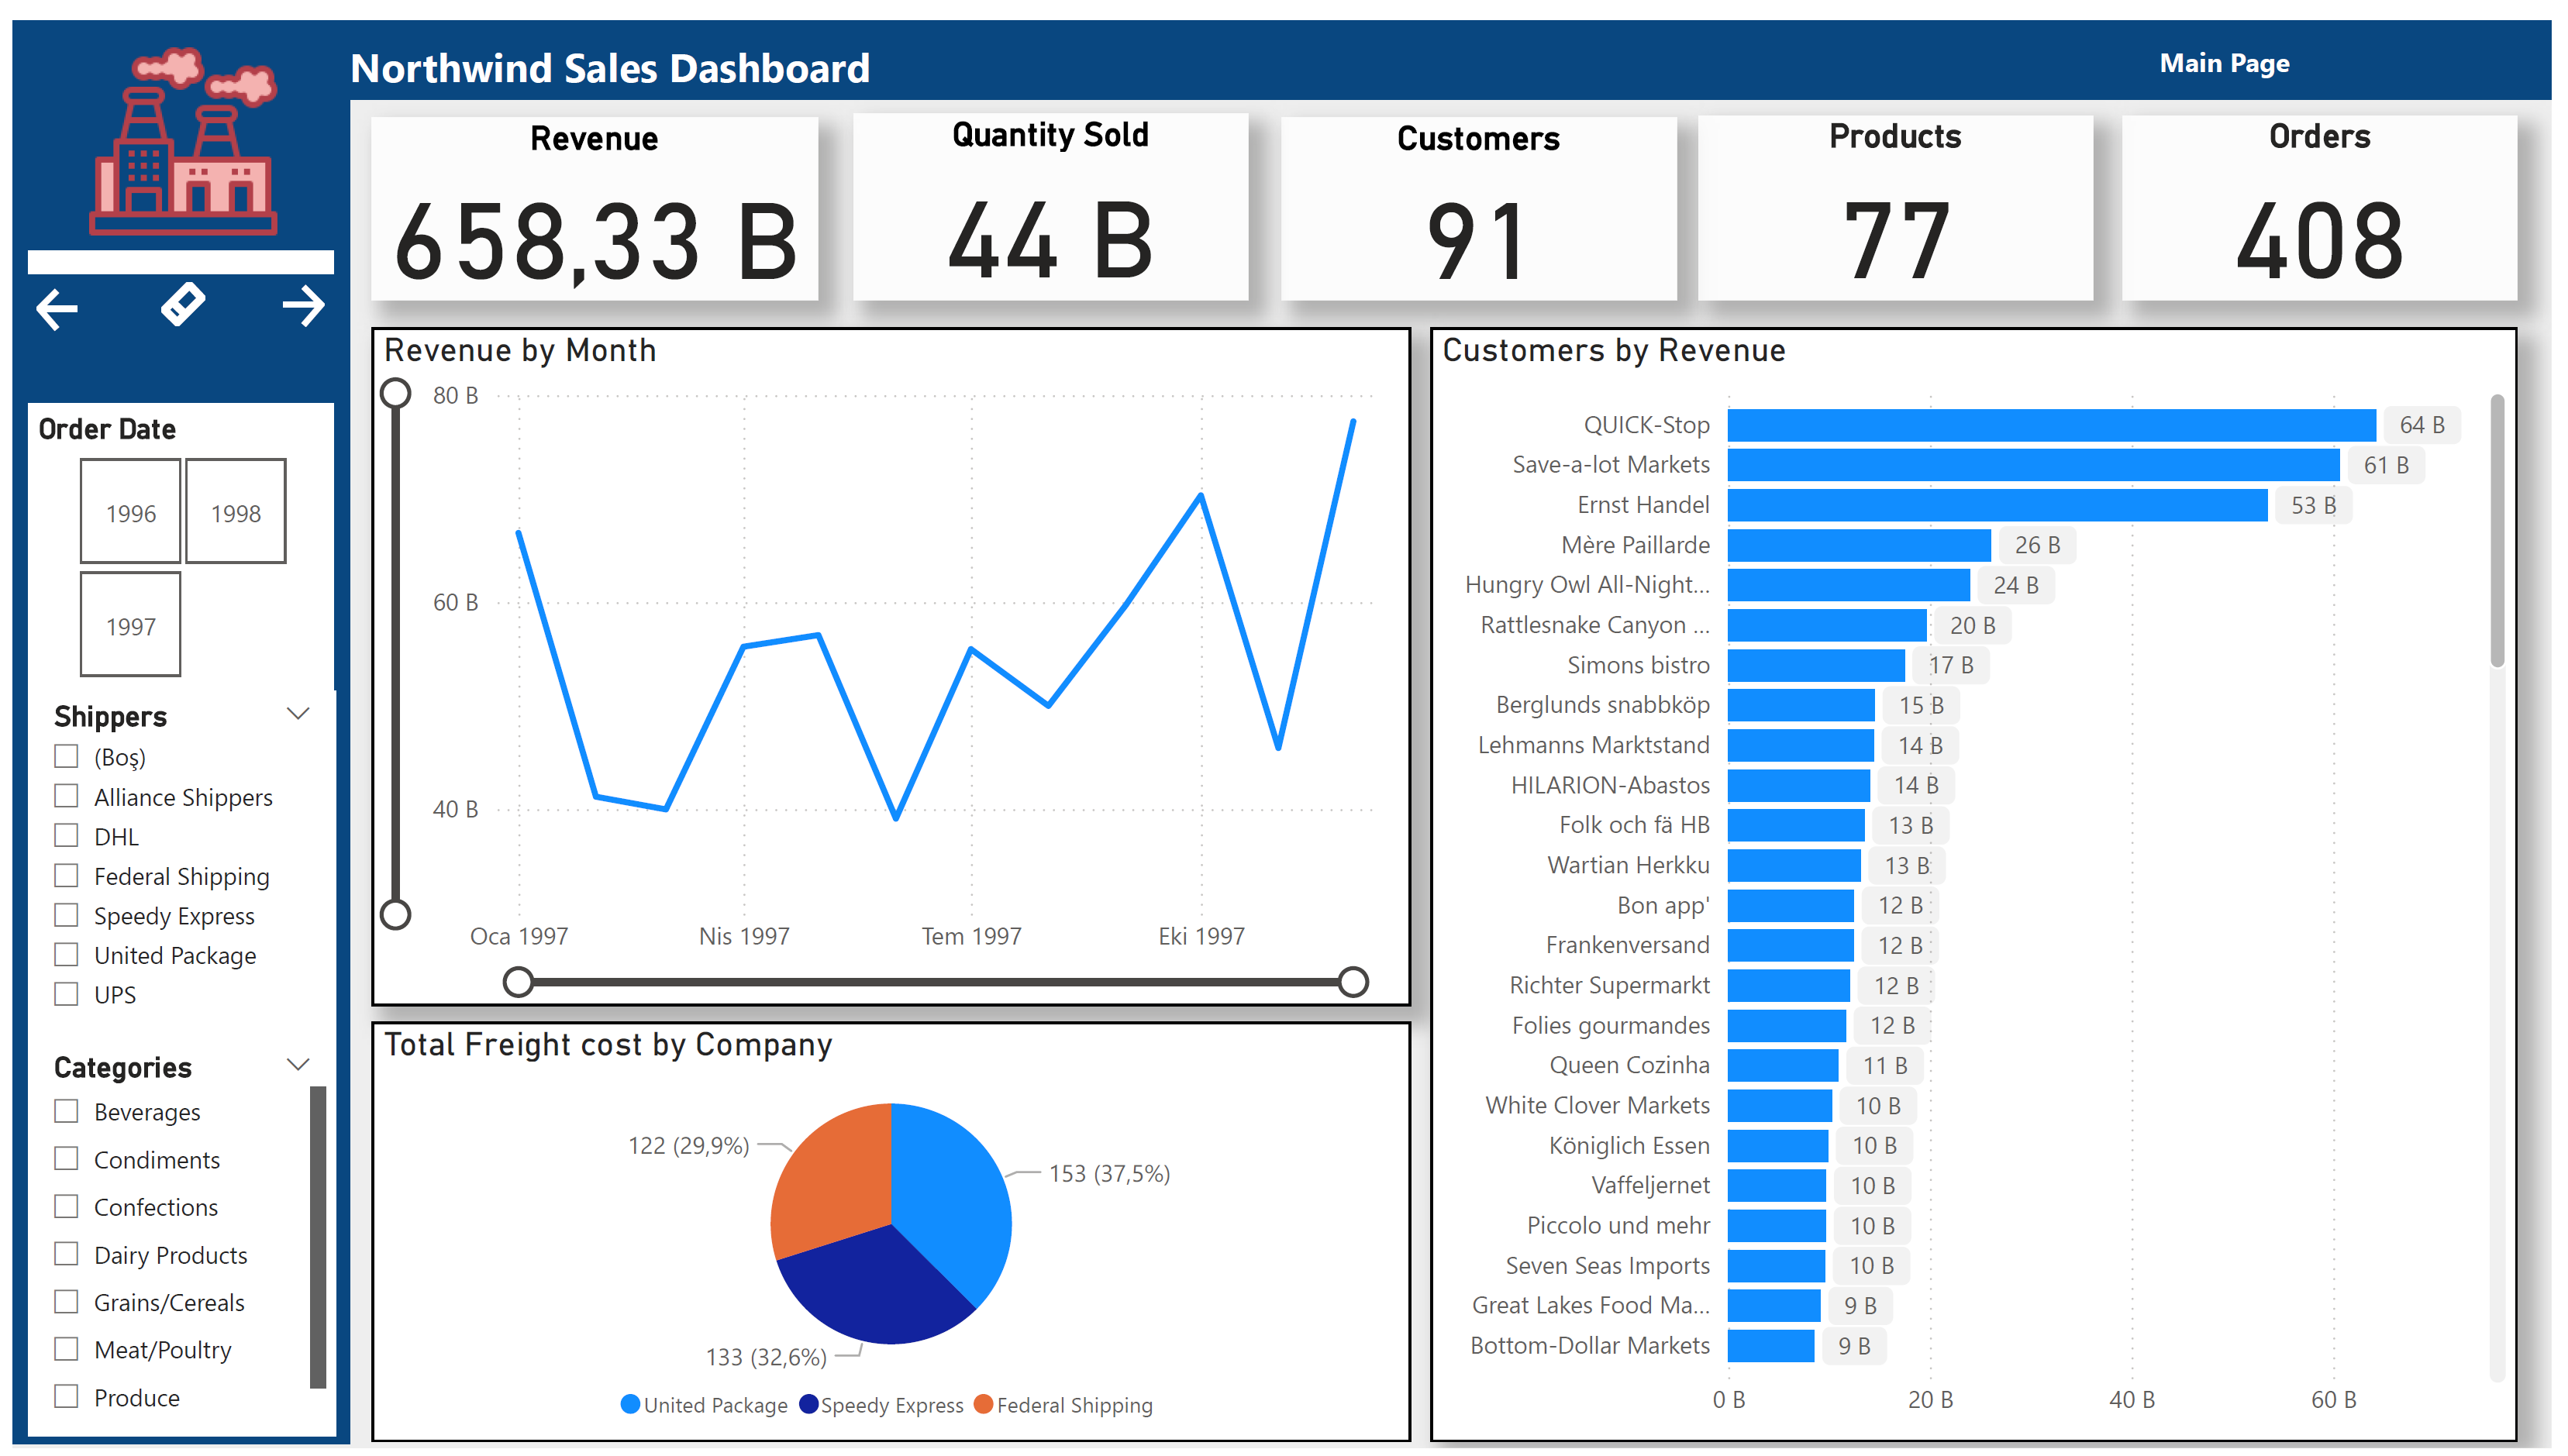

Layout of this report page (visuals, bound fields, positions):
{"tool":"powerbi","page":{"name":"Main Page","canvas":[1280,720],"ordinal":0},"visuals":[{"type":"card","title":"Customers","fields":{"Values":["CountNonNull(customers.cnt)"]},"box":[640,49.1,199.1,91.8],"z":0},{"type":"shape","box":[0,0,1280,40],"z":1000},{"type":"card","title":"Products","fields":{"Values":["CountNonNull(products.productid)"]},"box":[850,48.2,199.1,92.7],"z":2000},{"type":"card","title":"Orders","fields":{"Values":["CountNonNull(orders.orderid)"]},"box":[1063.6,48.2,199.1,92.7],"z":3000},{"type":"card","title":"Revenue","fields":{"Values":["Sum(order_details.totalamount)"]},"box":[180.9,49.1,225.5,91.8],"z":4000},{"type":"card","title":"Quantity Sold","fields":{"Values":["Sum(order_details.productid)"]},"box":[423.6,47.3,199.1,93.6],"z":5000},{"type":"lineChart","title":"Revenue by Month","fields":{"Y":["Sum(order_details.totalamount)"],"Category":["orders.orderdate.Varyasyon.Tarih Hiyerarşisi.Yıl","orders.orderdate.Varyasyon.Tarih Hiyerarşisi.Ay"]},"box":[180.9,155.5,524.5,341.8],"z":6000},{"type":"barChart","title":"Customers by Revenue","fields":{"Category":["customers.companyname"],"Y":["Sum(order_details.totalamount)"]},"box":[715.5,155.5,547.3,561.8],"z":7000},{"type":"shape","box":[0,40,170,678.2],"z":8000},{"type":"pieChart","title":"Total Freight cost by Company","fields":{"Y":["CountNonNull(orders.shipvia)"],"Category":["shippers.companyname"]},"box":[180.9,504.5,524.5,212.7],"z":9000},{"type":"slicer","title":"Order Date","fields":{"Values":["orders.orderdate.Varyasyon.Tarih Hiyerarşisi.Yıl"]},"box":[7.8,192.6,154.7,145.9],"z":10000},{"type":"slicer","fields":{"Values":["shippers.companyname"]},"box":[8.2,338.2,154.5,176.4],"z":11000},{"type":"slicer","fields":{"Values":["categories.categoryname"]},"box":[8.2,514.5,154.5,199.1],"z":12000},{"type":"actionButton","box":[71.4,127.9,30,30],"z":13000},{"type":"actionButton","box":[130.7,129.3,30,30],"z":14000},{"type":"actionButton","box":[7.9,130.7,30,30],"z":15000},{"type":"pageNavigator","box":[1063.6,1.8,216.4,37.3],"z":16000},{"type":"image","box":[8.2,7.3,154.5,108.2],"z":17000},{"type":"shape","box":[7.9,115.7,154.3,12.1],"z":18000}]}

Visuals, with their boxes in screenshot pixels (x1, y1, x2, y2), scaled from the page's 1280x720 canvas onto the 2568x1456 screenshot:
"Customers" card: {"x1": 1284, "y1": 99, "x2": 1684, "y2": 285}
shape: {"x1": 0, "y1": 0, "x2": 2567, "y2": 81}
"Products" card: {"x1": 1705, "y1": 98, "x2": 2104, "y2": 285}
"Orders" card: {"x1": 2134, "y1": 98, "x2": 2533, "y2": 285}
"Revenue" card: {"x1": 363, "y1": 99, "x2": 815, "y2": 285}
"Quantity Sold" card: {"x1": 850, "y1": 95, "x2": 1250, "y2": 285}
"Revenue by Month" lineChart: {"x1": 363, "y1": 315, "x2": 1415, "y2": 1006}
"Customers by Revenue" barChart: {"x1": 1436, "y1": 315, "x2": 2533, "y2": 1451}
shape: {"x1": 0, "y1": 81, "x2": 341, "y2": 1452}
"Total Freight cost by Company" pieChart: {"x1": 363, "y1": 1021, "x2": 1415, "y2": 1451}
"Order Date" slicer: {"x1": 16, "y1": 390, "x2": 326, "y2": 684}
slicer - shippers.companyname: {"x1": 16, "y1": 684, "x2": 326, "y2": 1041}
slicer - categories.categoryname: {"x1": 16, "y1": 1041, "x2": 326, "y2": 1443}
actionButton: {"x1": 143, "y1": 259, "x2": 203, "y2": 319}
actionButton: {"x1": 262, "y1": 261, "x2": 322, "y2": 322}
actionButton: {"x1": 16, "y1": 264, "x2": 76, "y2": 325}
pageNavigator: {"x1": 2134, "y1": 4, "x2": 2567, "y2": 79}
image: {"x1": 16, "y1": 15, "x2": 326, "y2": 233}
shape: {"x1": 16, "y1": 234, "x2": 326, "y2": 259}
